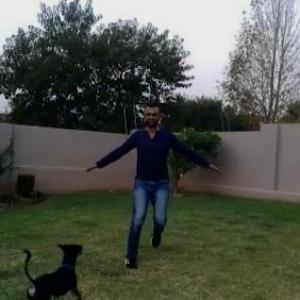land: (82, 76, 236, 283)
